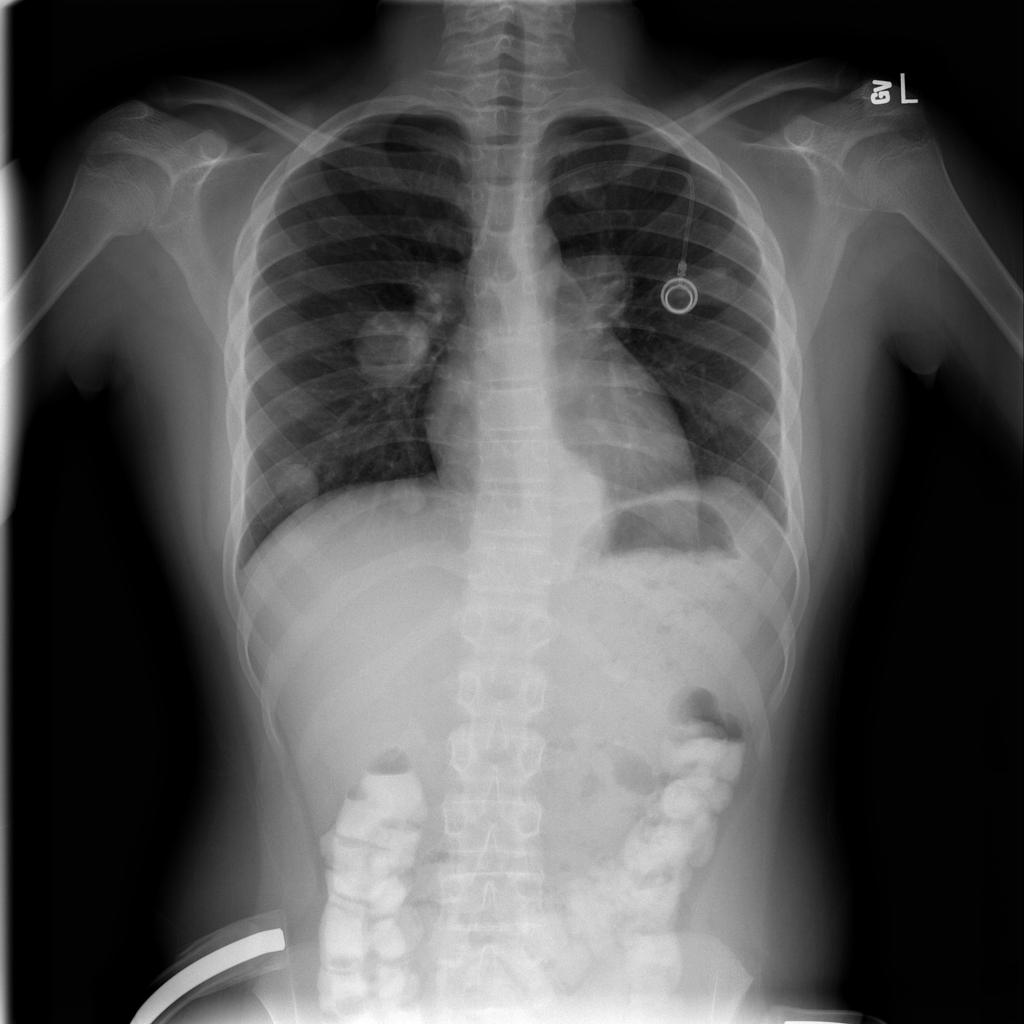nodule: (337, 294, 451, 402), (682, 243, 753, 314), (261, 453, 337, 518), (371, 463, 443, 529), (739, 397, 792, 446)
